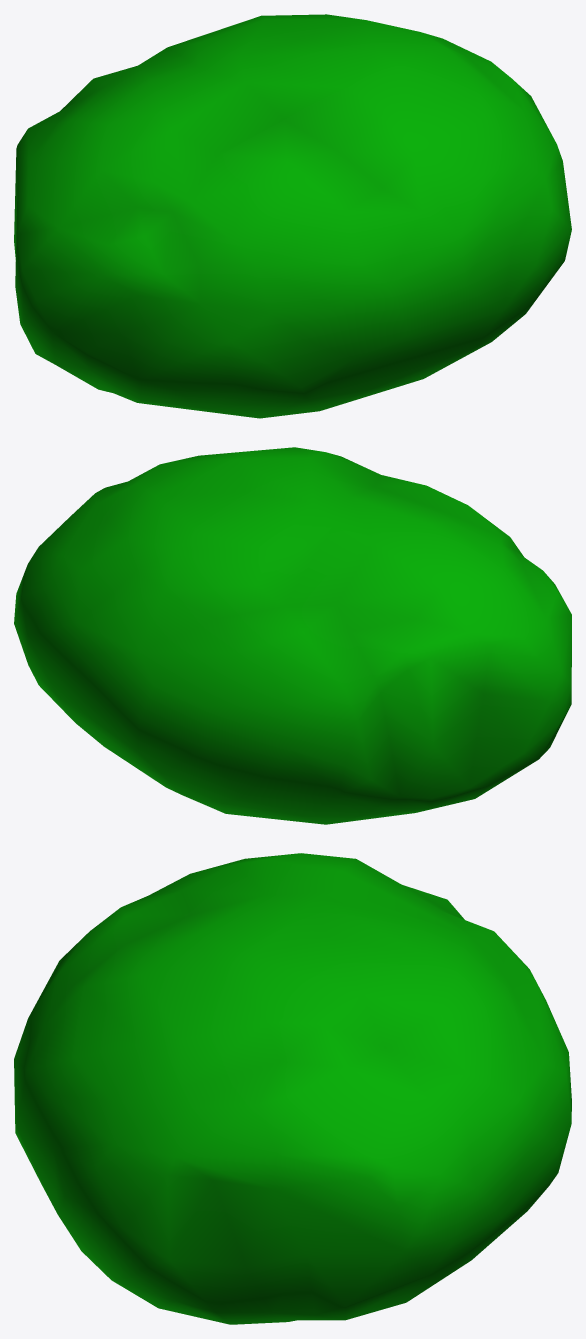
File: rock_small_a.glb
3 renders of one model, top to bottom at view 1: azimuth 30°, elevation 25°; view 2: azimuth 150°, elevation 25°; view 3: azimuth 270°, elevation 25°, orthographic. The views are drawn at different scales.
Visible parts, largest first — view 1: LOD0; view 2: LOD0; view 3: LOD0.
Part boxes in pixels (<box>): LOD0: <box>14,14,571,418</box>; LOD0: <box>14,447,571,824</box>; LOD0: <box>14,853,571,1324</box>.
Size of what is drawn, in the model's own units: 0.5074 by 0.2793 by 0.4173.
